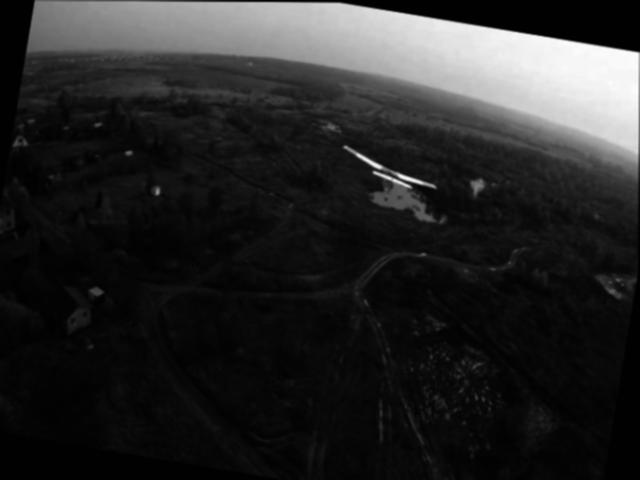hedef: (332, 138, 452, 209)
